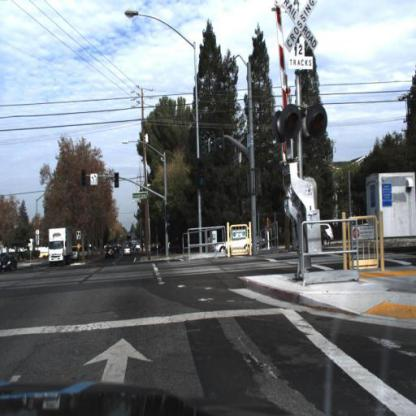car: (212, 235, 251, 253), (158, 237, 188, 257), (1, 253, 19, 276)
trafficLight: (196, 157, 207, 187)
truck: (46, 228, 71, 267)
